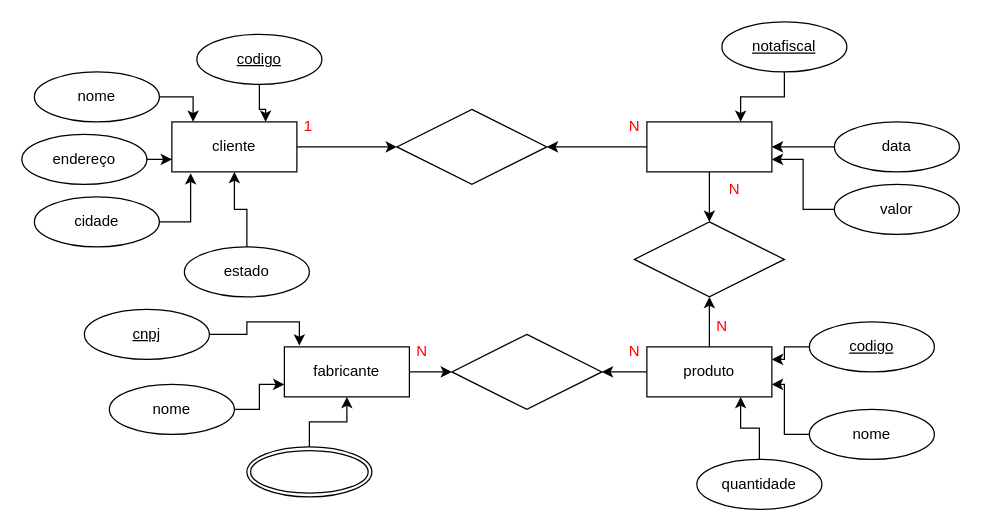
Image size: 981x531. Some labels were removed from this diagram. The box of each missing label's shape, as (x1, y1, x2, y2) in pixels:
compra: (646, 121, 772, 172)
conter: (633, 221, 784, 297)
distribuido: (451, 333, 602, 409)
realiza: (396, 108, 547, 184)
telefone: (246, 446, 372, 497)
